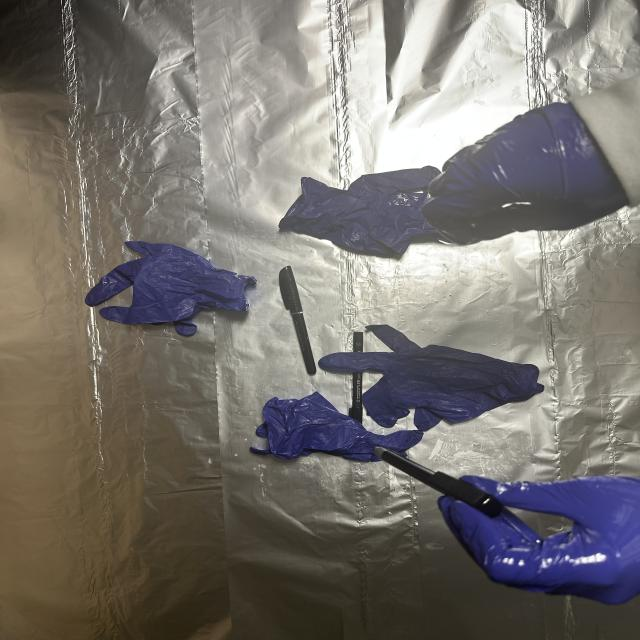gloves_contaminated: (423, 103, 629, 244), (439, 476, 640, 604)
